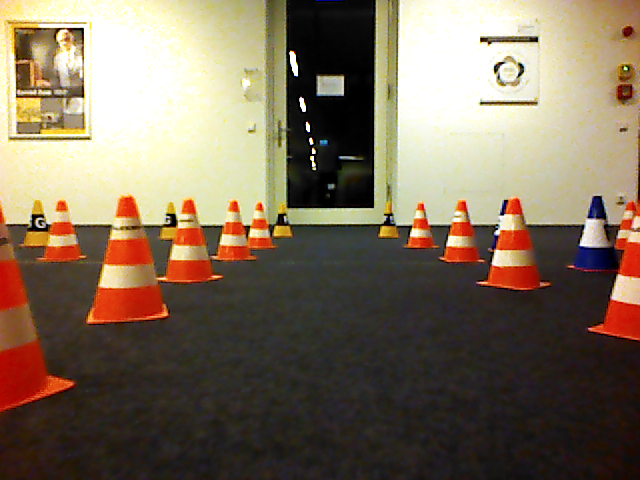bluecone: (567, 195, 621, 273)
orangeconesmall: (83, 194, 172, 324), (438, 201, 485, 265), (214, 200, 258, 263), (402, 201, 441, 250)
